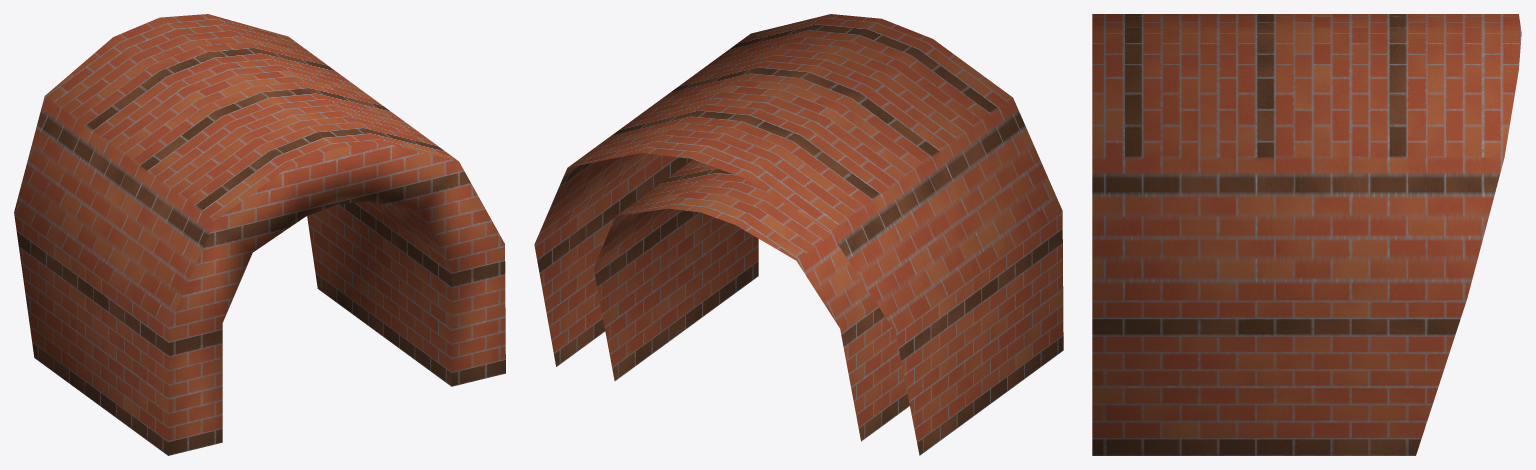
File: Tunel.fbx
The picture shows the model from 3 angles, left to right: view 1: azimuth 30°, elevation 25°; view 2: azimuth 150°, elevation 25°; view 3: azimuth 270°, elevation 25°; orthographic projection. The views are drawn at different scales.
Visible parts, largest first — view 1: Tunel; view 2: Tunel; view 3: Tunel.
Boxes of the visible parts, bbox=[...] form: Tunel: bbox=[14, 14, 505, 455]; Tunel: bbox=[534, 14, 1063, 455]; Tunel: bbox=[1092, 14, 1521, 455].
Size of the model in its own units: 740 by 559 by 674.
Materials: 1 (1 with a texture image).
